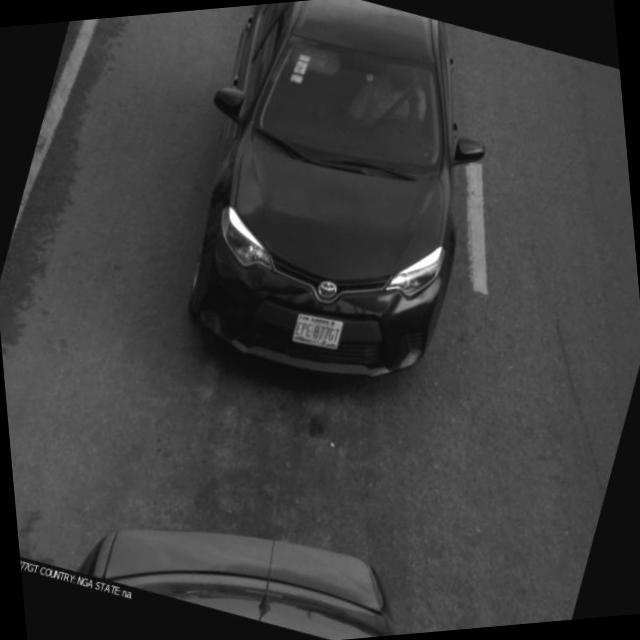person_with_seatbelt: (346, 50, 446, 146)
